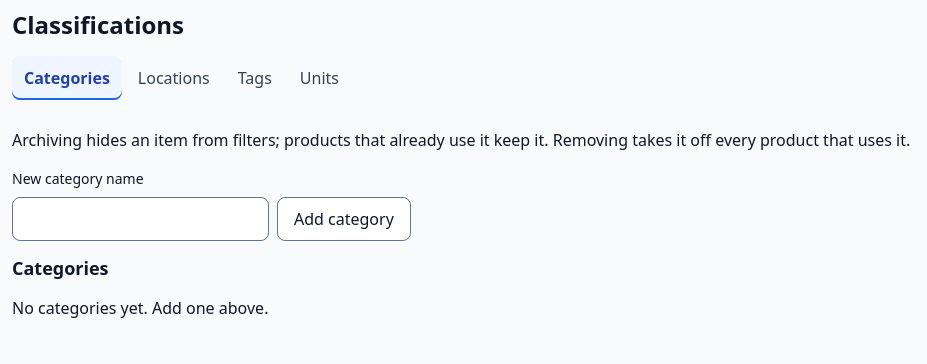
ClassificationsPage › Categories › add › reports an unexpected failure plainly (and logs it)
Expected: the text "No categories yet. Add one above." is shown, [12,297,268,319]
Type "X" into the field labelled "New category name" at (140, 219), box [12,197,269,241]
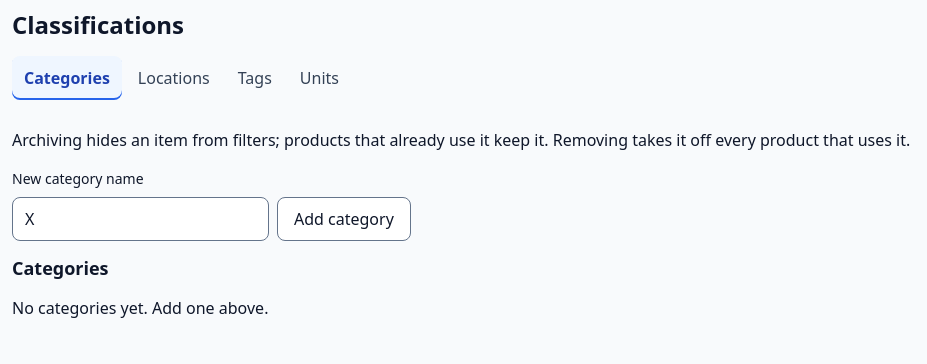
Click the button "Add category" at (344, 219), box [277,197,411,241]
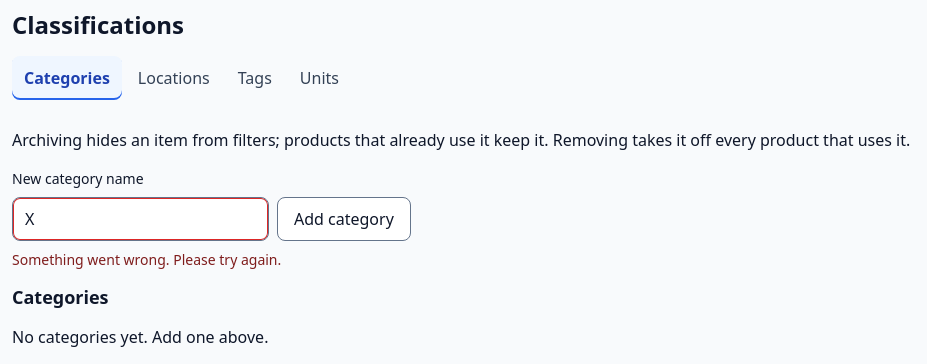
Now the message reads "Something went wrong. Please try again.", box [12,250,281,269]
